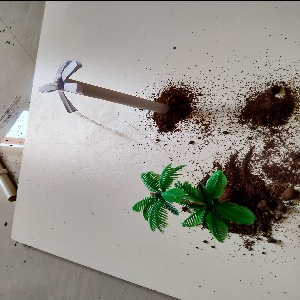plant: (132, 161, 267, 247)
weed: (38, 64, 183, 126)
